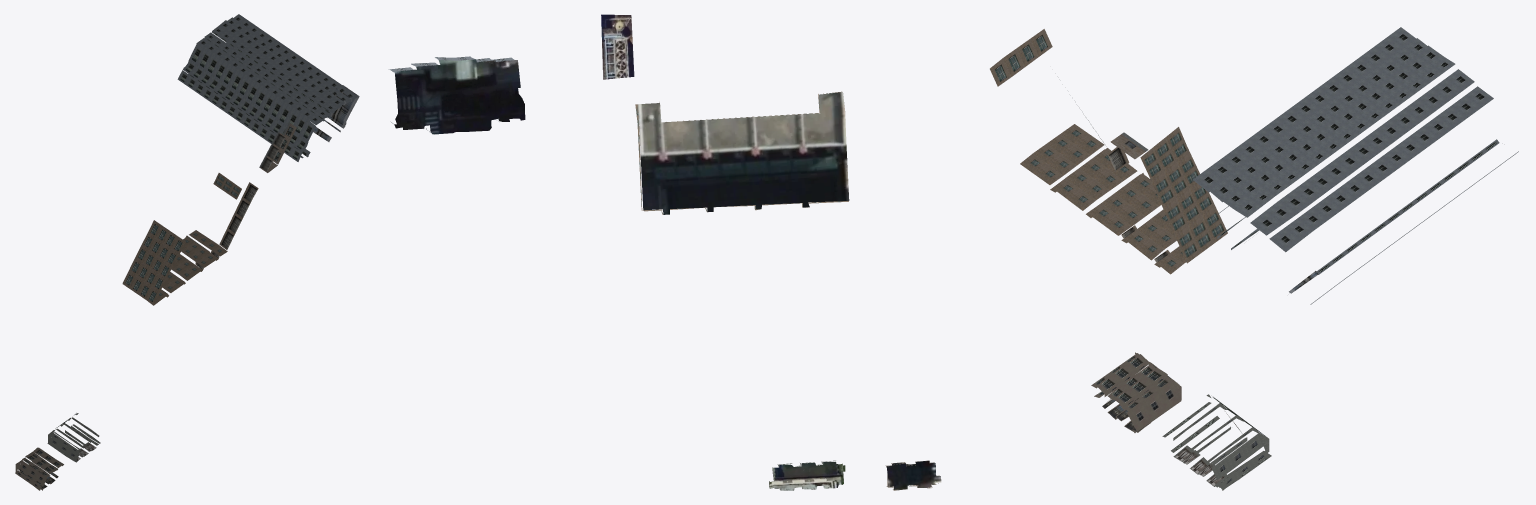
Rendered from tile_LOD4_r2_c14.glb.
3 views of the same model, side by side, from view 1: azimuth 30°, elevation 25°; view 2: azimuth 150°, elevation 25°; view 3: azimuth 270°, elevation 25° (orthographic). The views are drawn at different scales.
Bounding box in the file's own units: 145 × 120 × 100.
24 materials, 24 textured.
